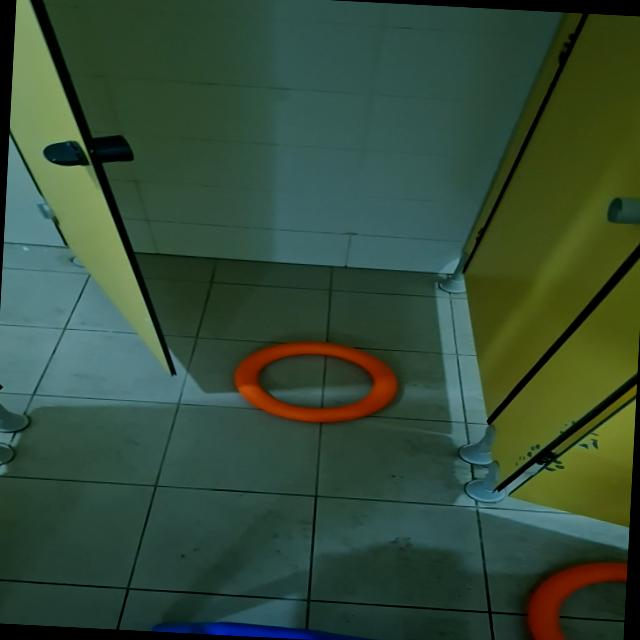note: (230, 336, 402, 428), (524, 556, 626, 640)
